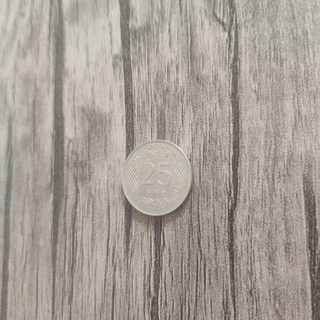25KURUS: (120, 138, 194, 217)
